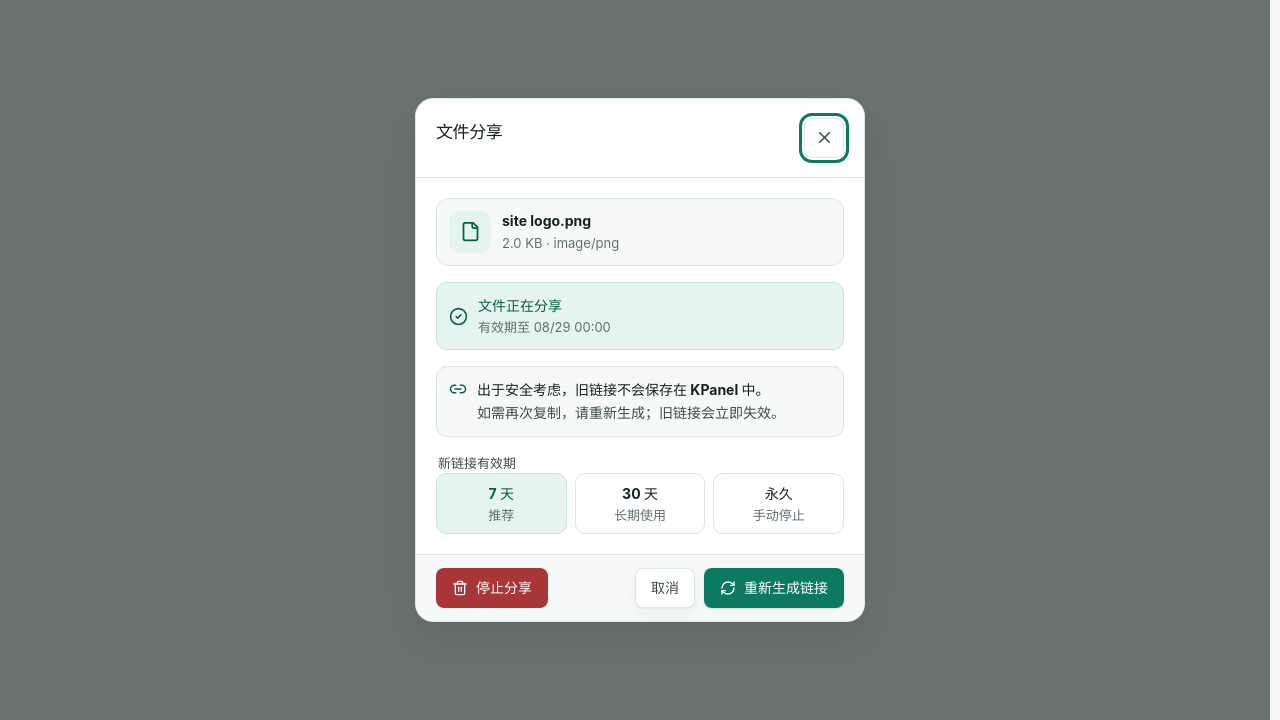
Test: FileShareDialog hash-only sharing › stops the active share only after confirmation
Click the button "停止分享" at (492, 588), box [436,568,548,608]
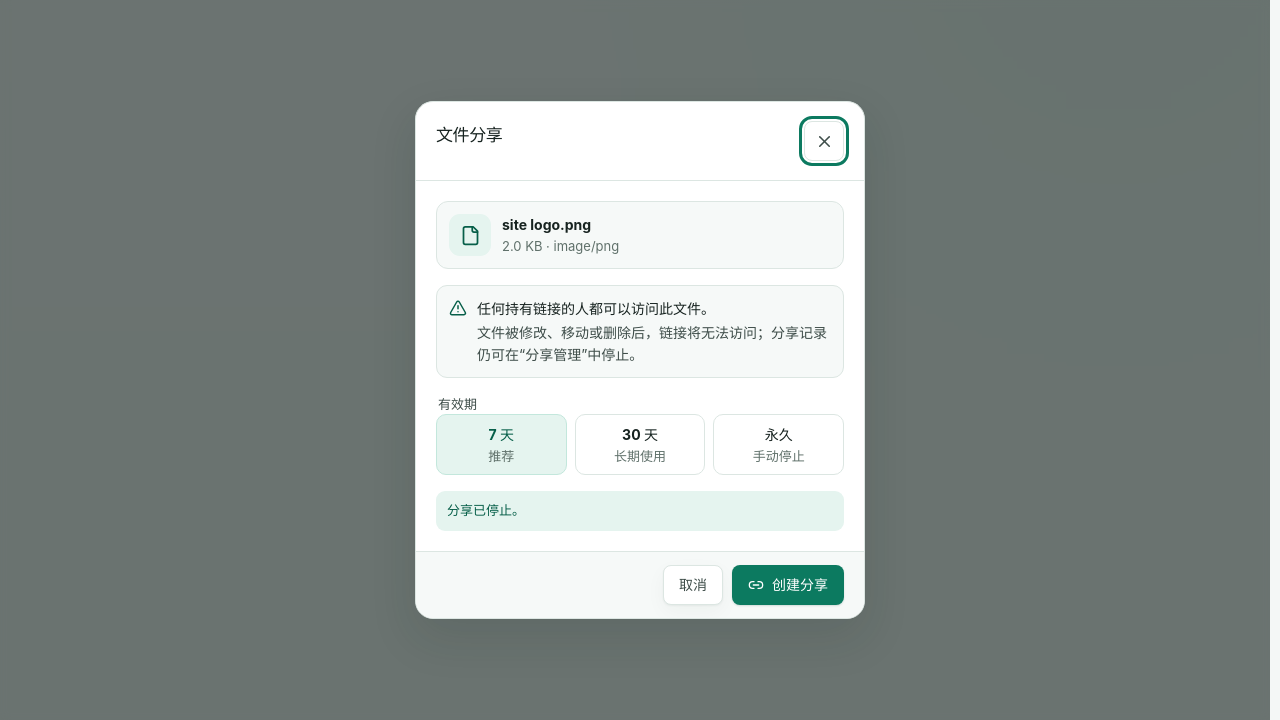
Expected: the text "分享已停止。" is shown, [436,491,844,531]
Expected: the text "创建分享" is shown, [732,565,844,605]
